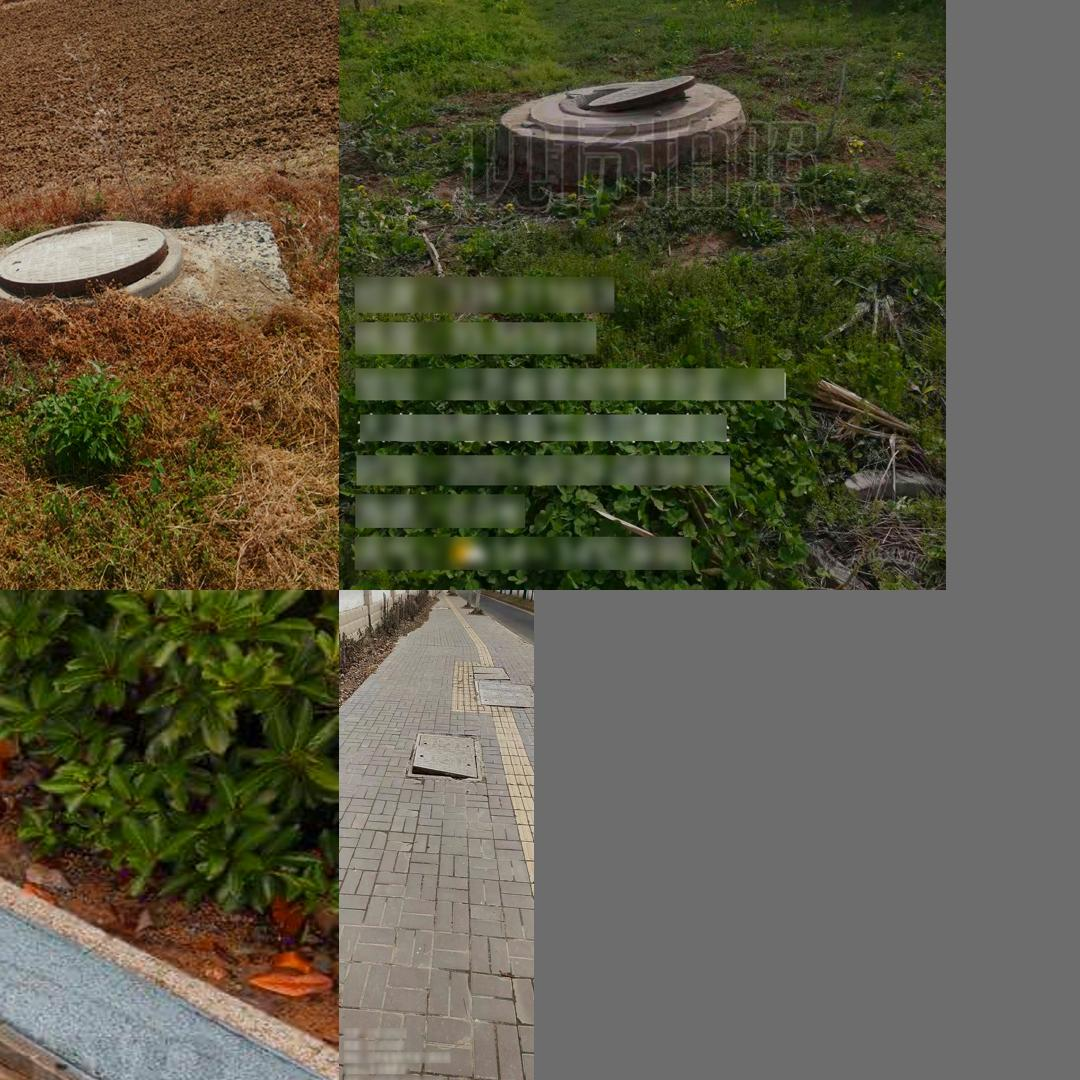good: (473, 677, 534, 708)
uncovered: (0, 890, 155, 1080), (0, 220, 180, 302), (531, 75, 721, 127), (404, 731, 482, 783)
